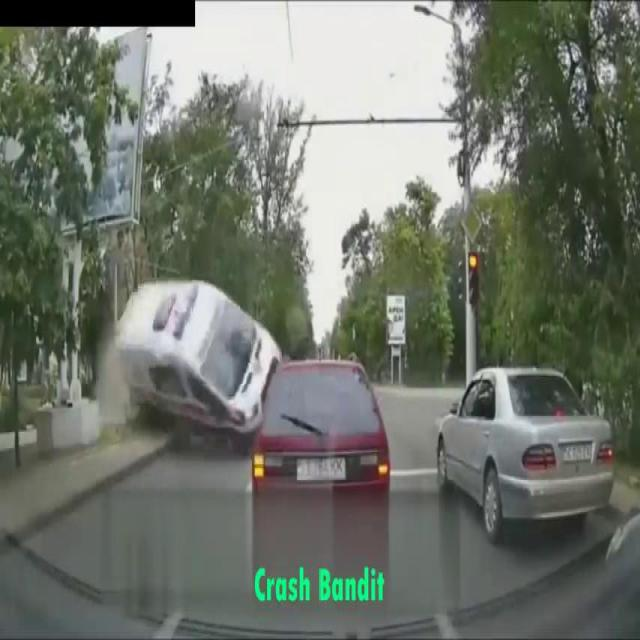severe: (114, 269, 285, 447)
